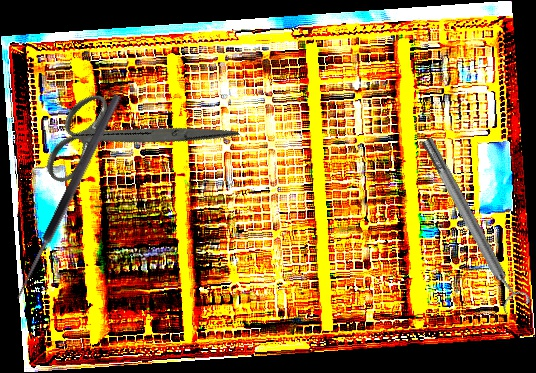Fixation Ring: (413, 131, 533, 317)
Hook Surgical: (12, 92, 133, 307)
Iris Scissors: (24, 35, 241, 240)
